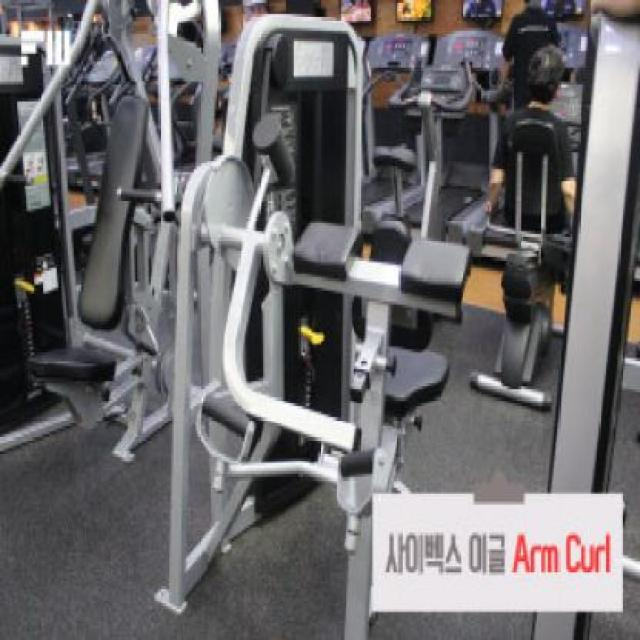arm curl machine: (166, 117, 472, 531)
